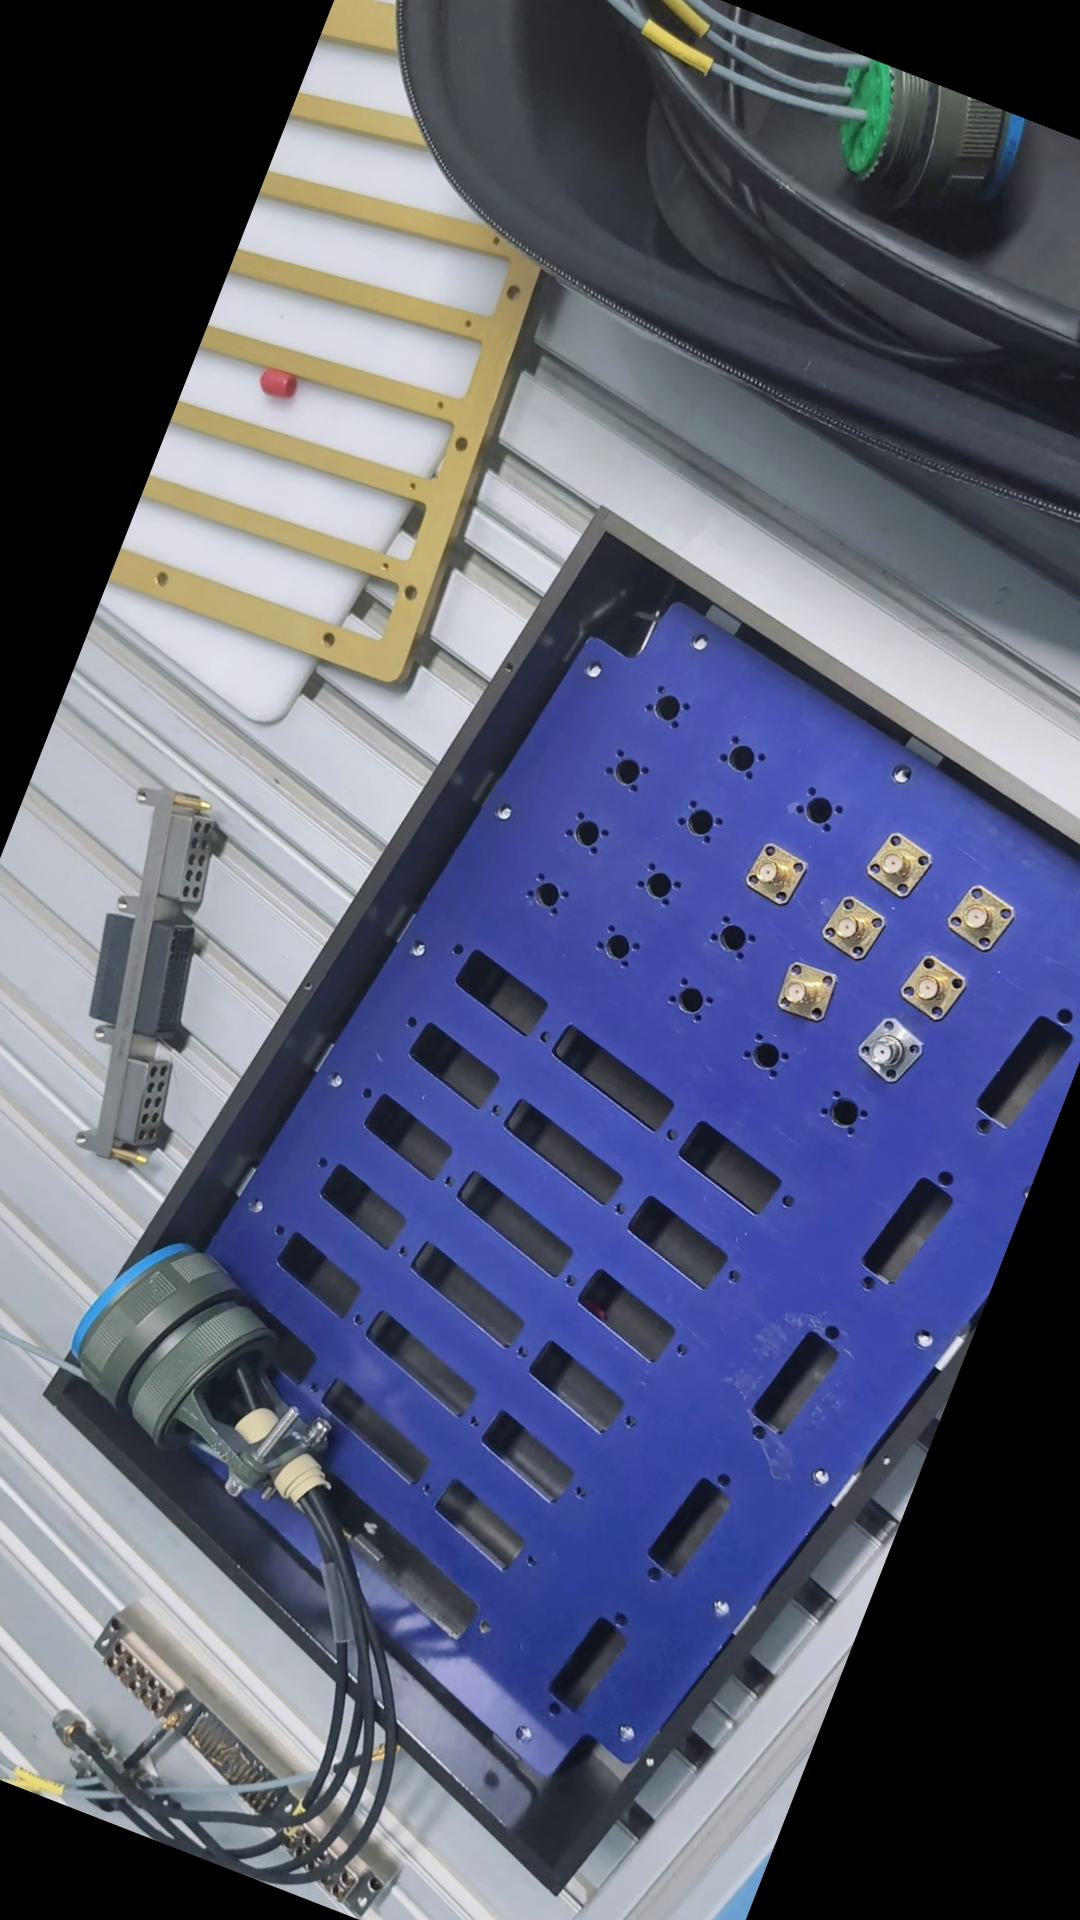SMA: (936, 876, 1021, 956), (853, 824, 938, 905), (760, 949, 843, 1030), (733, 832, 814, 909), (890, 952, 968, 1029), (851, 1009, 924, 1084), (814, 891, 885, 964)
